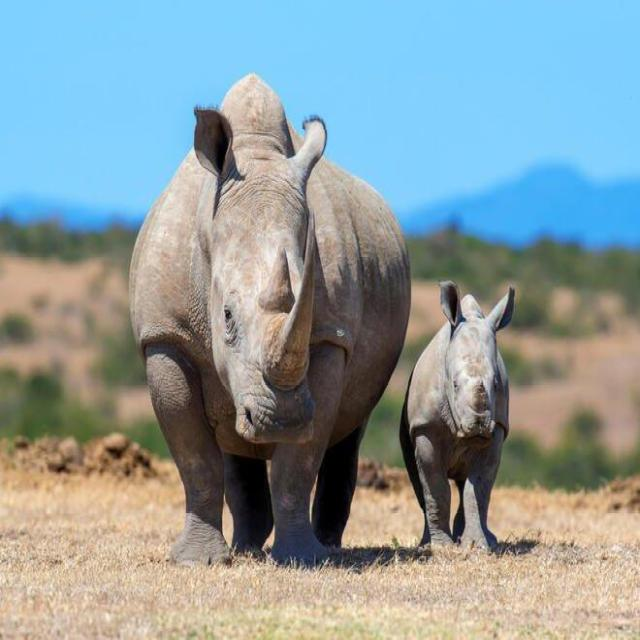Rinoceros: (81, 28, 423, 596), (390, 241, 556, 589)
